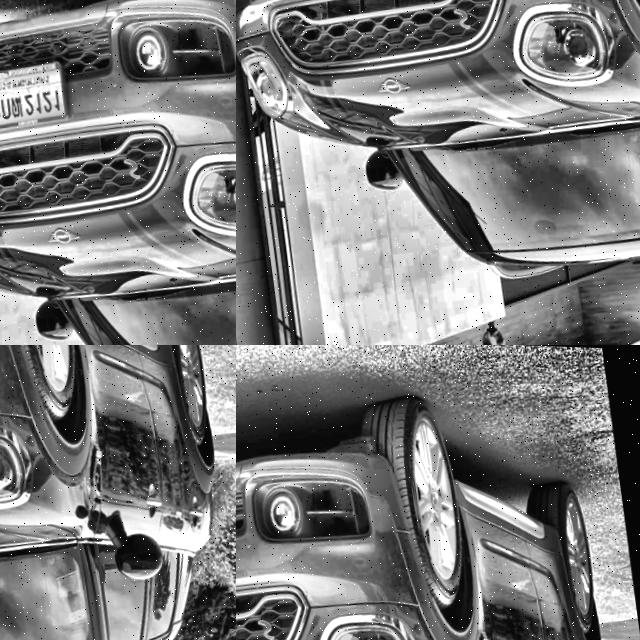license-plate: (236, 0, 291, 19)
